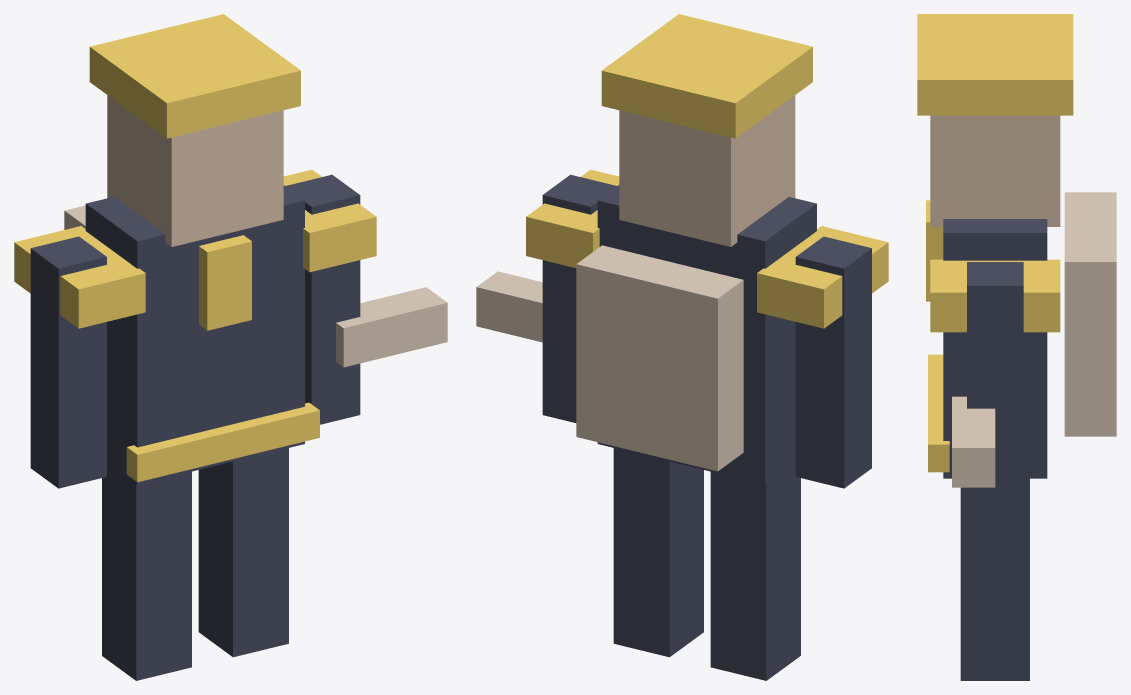
File: 08_calder_deepwell_herald_under_pawn.glb
3 views of the same model, side by side, from view 1: azimuth 30°, elevation 25°; view 2: azimuth 150°, elevation 25°; view 3: azimuth 270°, elevation 25° (orthographic).
Parts seen in each view (by area): view 1: Calder Deepwell, Herald under Pawn; view 2: Calder Deepwell, Herald under Pawn; view 3: Calder Deepwell, Herald under Pawn.
Boxes of the visible parts, box(x1,y1,x2,y2) form: Calder Deepwell, Herald under Pawn: box(14, 14, 447, 680); Calder Deepwell, Herald under Pawn: box(476, 14, 888, 680); Calder Deepwell, Herald under Pawn: box(917, 14, 1116, 680).
Bounding box in the file's own units: 1.03 × 1.52 × 0.4619.
